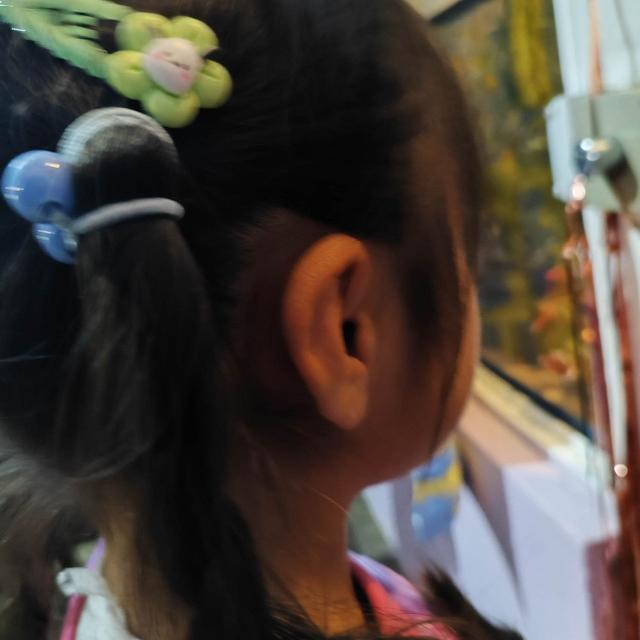ear: (281, 234, 378, 431)
